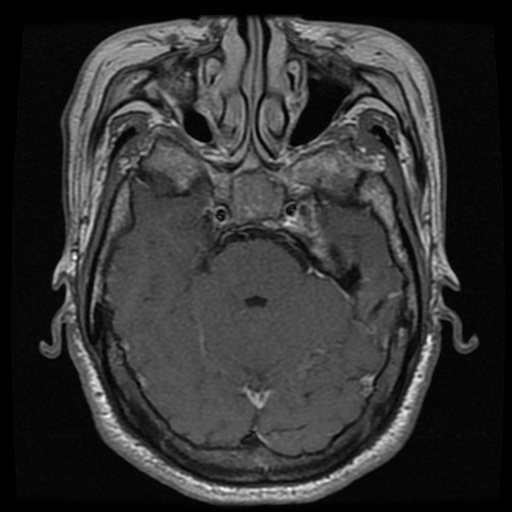pituitary: (230, 170, 286, 225)
